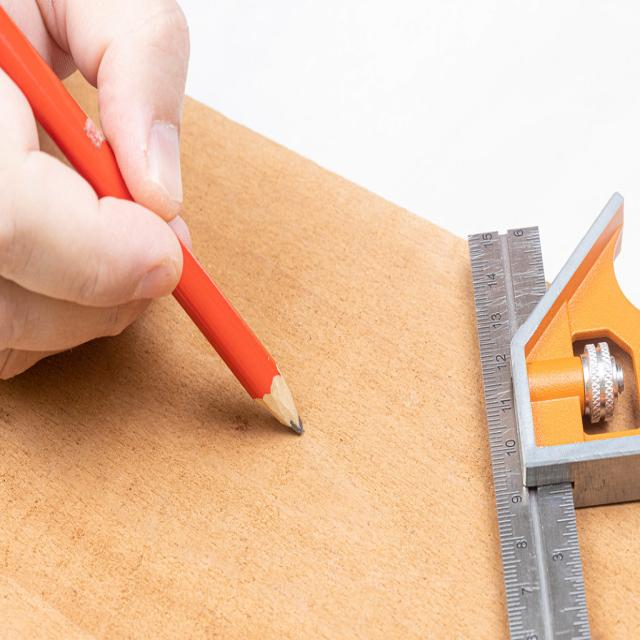pencil: (0, 7, 312, 448)
